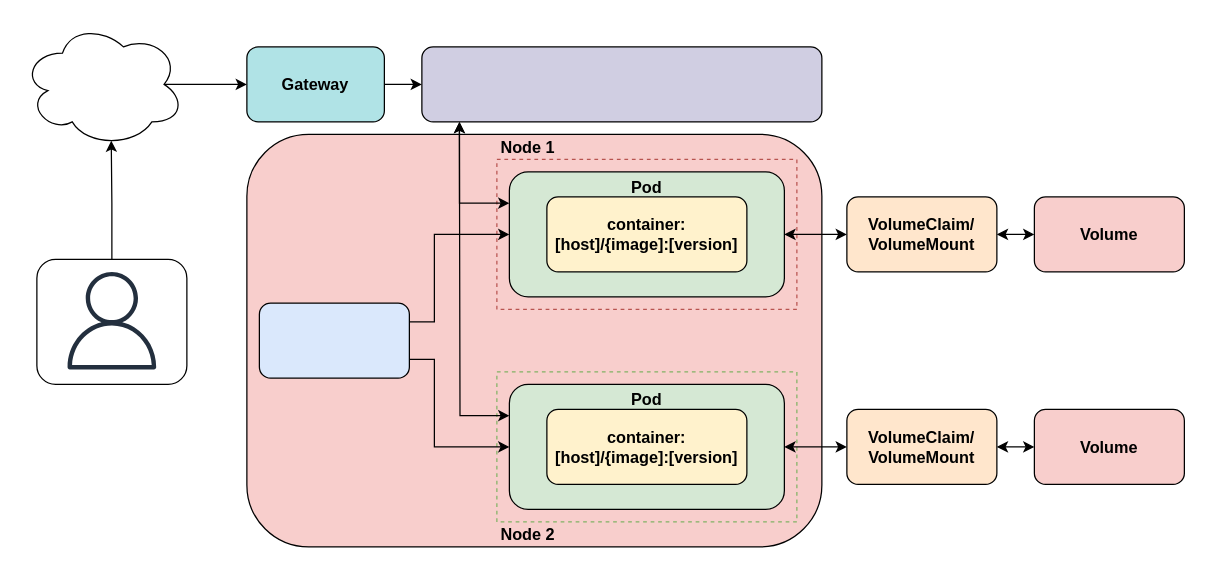
Image size: 1206x569. Some labels were removed from this diagram. Each missing label, with the box of its shape:
Deployment: (246, 133, 822, 547)
Internet: (21, 21, 184, 147)
ReplicaSet scale=2: (258, 302, 409, 378)
Service: (421, 46, 822, 122)
